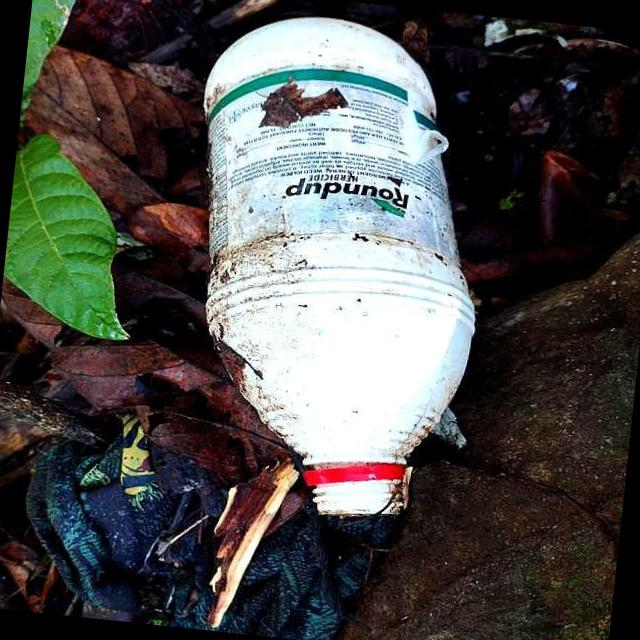Non-biodegradable: (164, 4, 505, 526)
